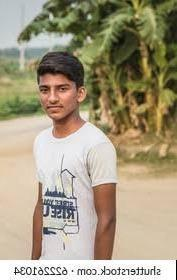Human: (21, 42, 127, 266)
